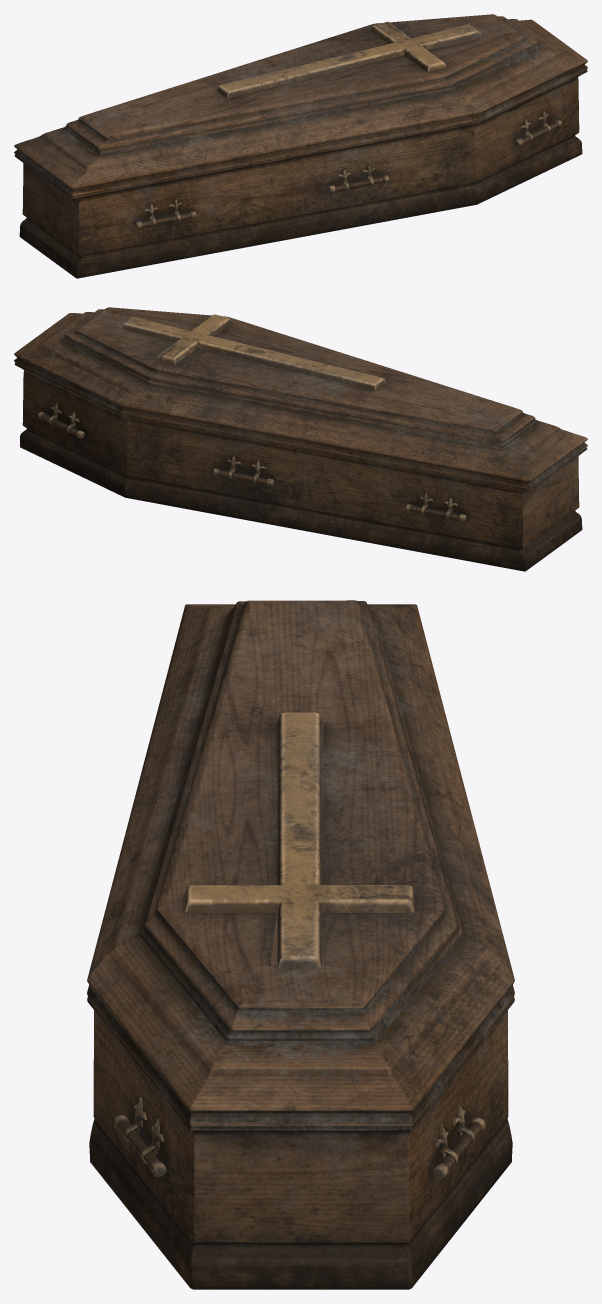
Rendered from sm_Coffin_01_01.fbx.
3 renders of one model, top to bottom at view 1: azimuth 30°, elevation 25°; view 2: azimuth 150°, elevation 25°; view 3: azimuth 270°, elevation 25°, orthographic. The views are drawn at different scales.
Parts seen in each view (by area): view 1: sm_Coffin_01_01_LOD0; view 2: sm_Coffin_01_01_LOD0; view 3: sm_Coffin_01_01_LOD0.
Boxes of the visible parts, bbox=[...] form: sm_Coffin_01_01_LOD0: bbox=[14, 14, 587, 278]; sm_Coffin_01_01_LOD0: bbox=[14, 307, 587, 571]; sm_Coffin_01_01_LOD0: bbox=[87, 600, 514, 1289].
Bounding box in the file's own units: 224 × 80.03 × 52.47.
